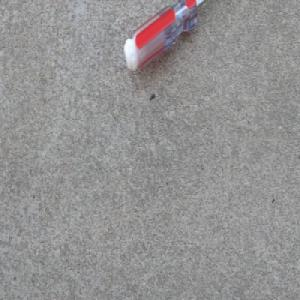Screwdriver: (122, 0, 211, 75)
